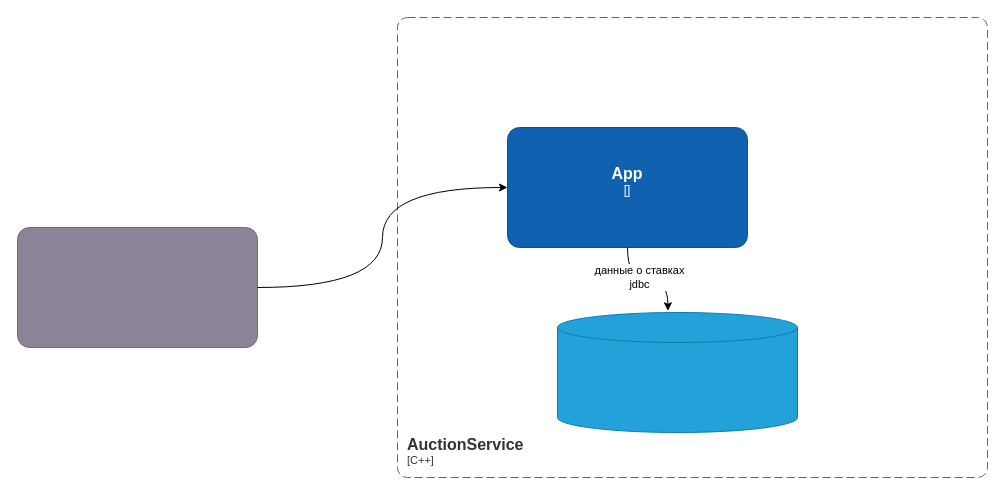
This 1005x495 diagram has some shape labels left out. Here are the shapes that lost their labels. From the top down, the box of each, then its label:
(16, 226, 258, 348): DSP-partner []
(556, 312, 798, 432): Postres [Container: PostgreSQL]
